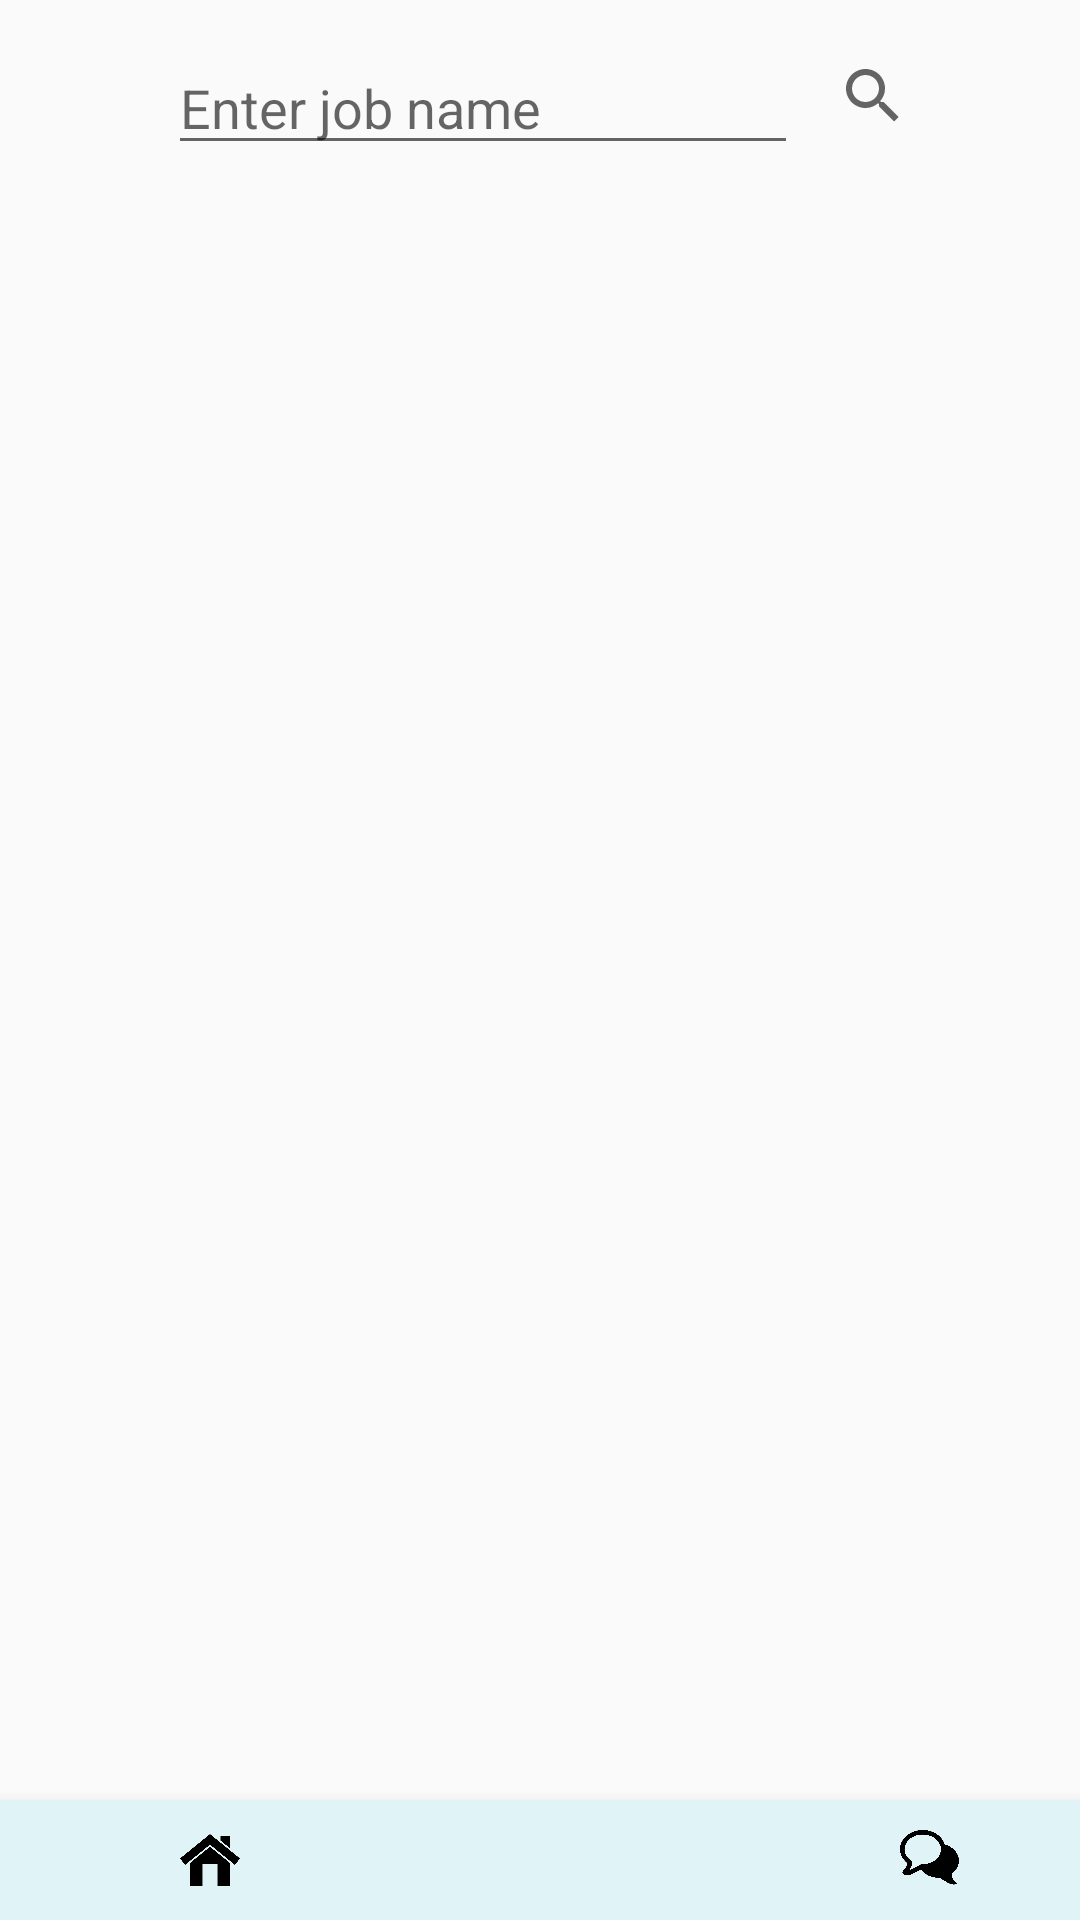

Locate icon controls on the screen. Image size 1080*1920, boxes as (x1, y1, x2, y2).
chat: (900, 1830, 959, 1885)
home: (180, 1834, 240, 1886)
